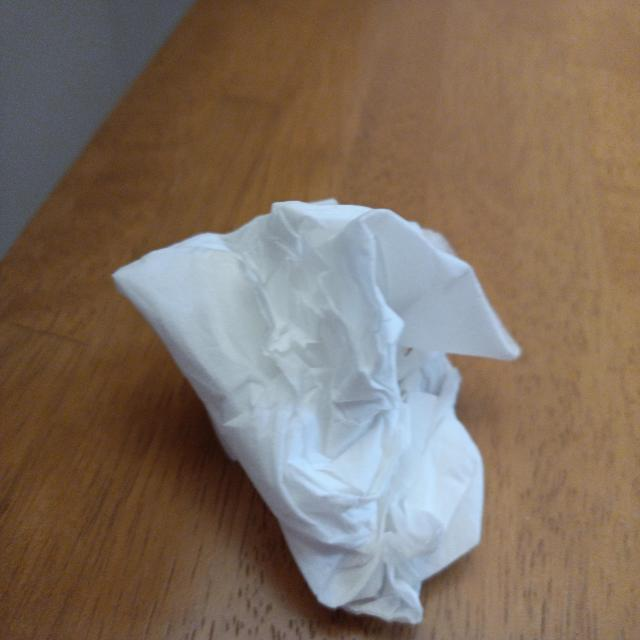Paper: (144, 206, 504, 588)
